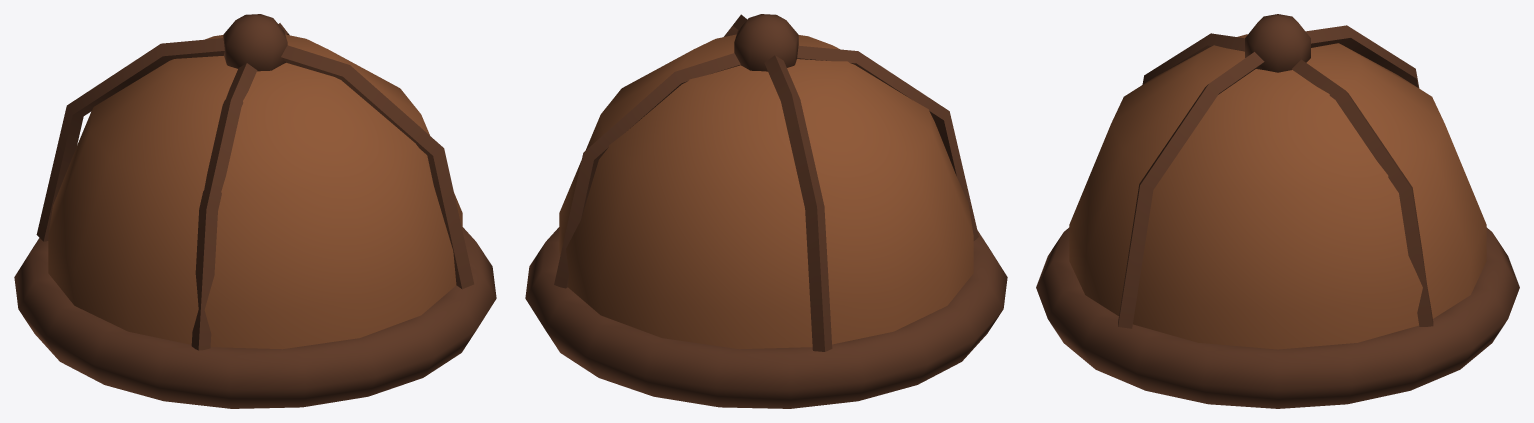
The model's file is leather-cap-pixor.glb.
The picture shows the model from 3 angles, left to right: view 1: azimuth 30°, elevation 25°; view 2: azimuth 150°, elevation 25°; view 3: azimuth 270°, elevation 25°; orthographic projection.
Visible parts, largest first — view 1: Cap dome, Cap brim, Cap seams; view 2: Cap dome, Cap brim, Cap seams; view 3: Cap dome, Cap brim, Cap seams.
Boxes of the visible parts, box(x1,y1,x2,y2) form: Cap dome: box(48, 34, 462, 349); Cap brim: box(14, 227, 496, 408); Cap seams: box(36, 14, 473, 350); Cap dome: box(559, 34, 973, 349); Cap brim: box(525, 227, 1007, 408); Cap seams: box(554, 14, 978, 351); Cap dome: box(1069, 34, 1486, 349); Cap brim: box(1036, 227, 1519, 408); Cap seams: box(1118, 14, 1433, 328).
Size of the model in its own units: 0.348 by 0.2358 by 0.348.
